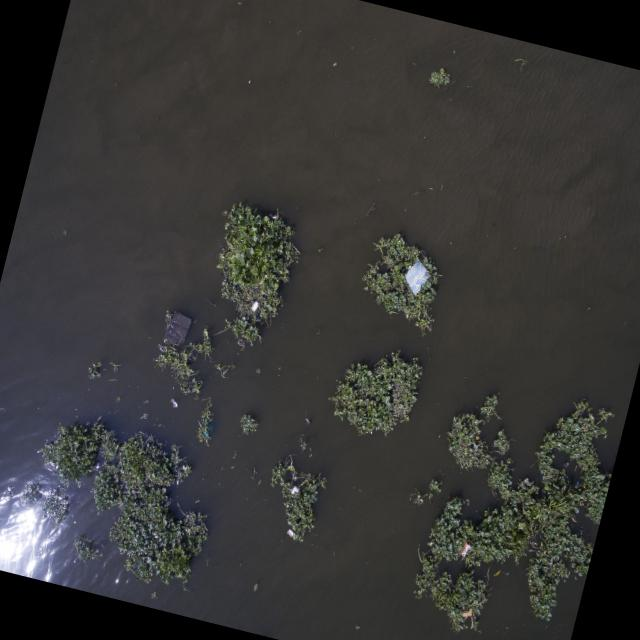Plastic: (155, 306, 196, 354), (398, 255, 436, 300)
